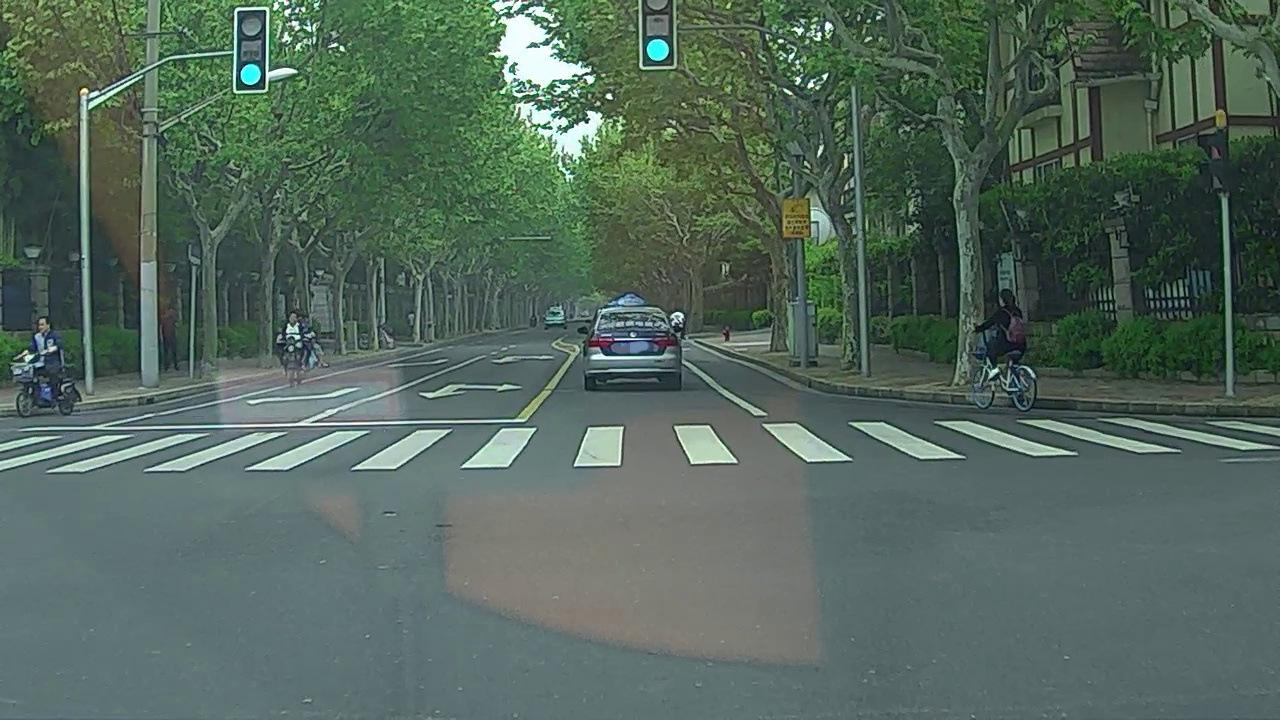traffic_light: (236, 7, 266, 93), (638, 1, 674, 70)
